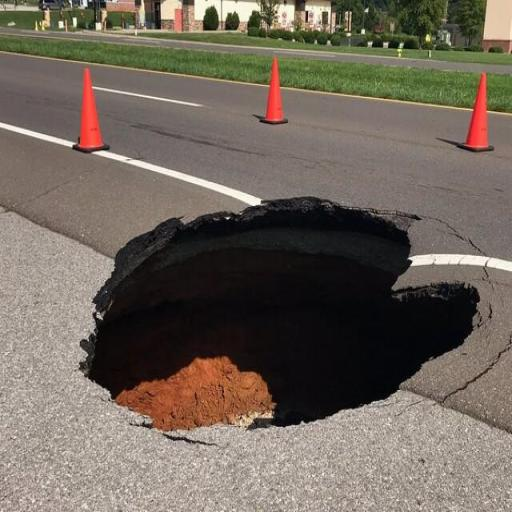Concentric_Crack: (81, 197, 479, 430)
